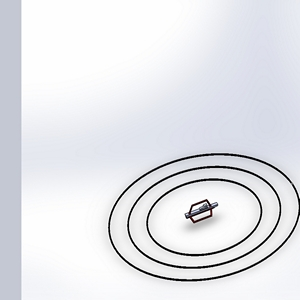circle: (104, 148, 299, 286)
submarine: (182, 193, 225, 231)
